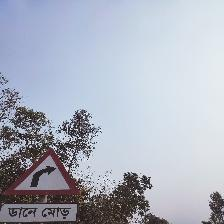Right-turn: (1, 148, 83, 223)
